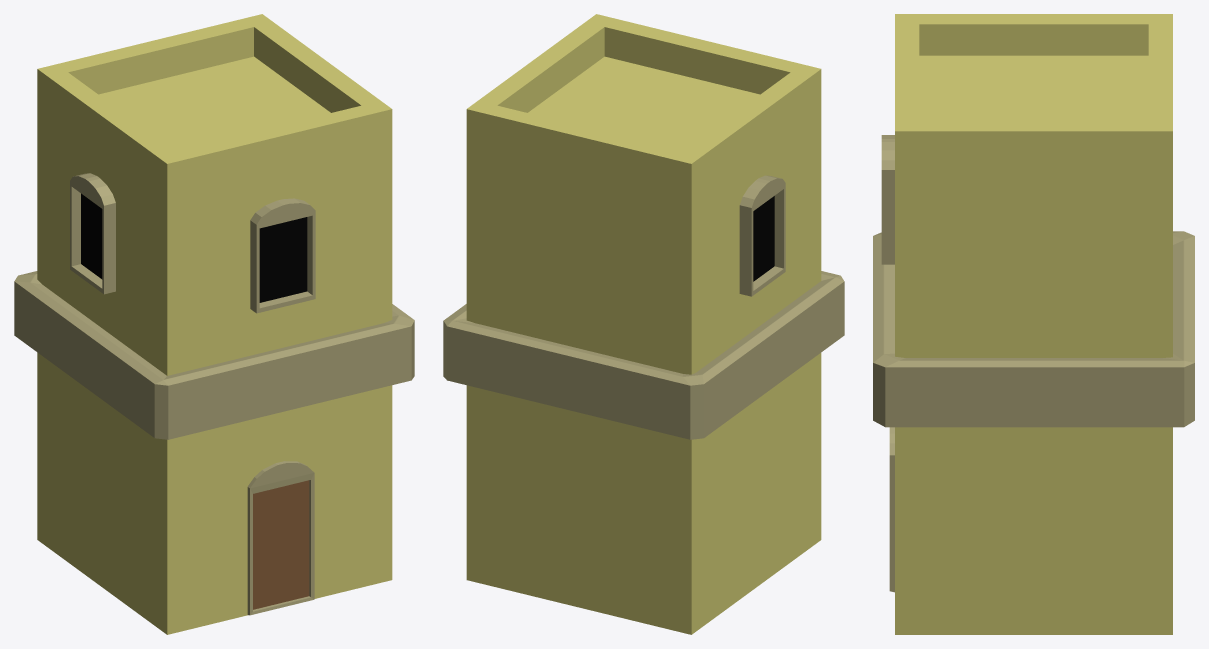
The model's file is BuildingBlockTall.fbx.
The picture shows the model from 3 angles, left to right: view 1: azimuth 30°, elevation 25°; view 2: azimuth 150°, elevation 25°; view 3: azimuth 270°, elevation 25°; orthographic projection. The views are drawn at different scales.
Parts seen in each view (by area): view 1: BuildingBlockTall, BuildingBand, Door, Window, Window.001; view 2: BuildingBlockTall, BuildingBand, Window.001; view 3: BuildingBlockTall, BuildingBand, Window, Door.
Boxes of the visible parts, x1,y1,x2,y2 form: BuildingBlockTall: (37, 14, 392, 634); BuildingBand: (14, 271, 414, 439); Door: (247, 461, 314, 615); Window: (250, 198, 315, 313); Window.001: (70, 173, 115, 294); BuildingBlockTall: (466, 14, 821, 634); BuildingBand: (443, 271, 844, 439); Window.001: (739, 175, 785, 296); BuildingBlockTall: (895, 14, 1172, 634); BuildingBand: (873, 231, 1194, 427); Window: (881, 135, 894, 264); Door: (889, 427, 894, 592).
Size of the model in its own units: 470 by 812 by 470.
